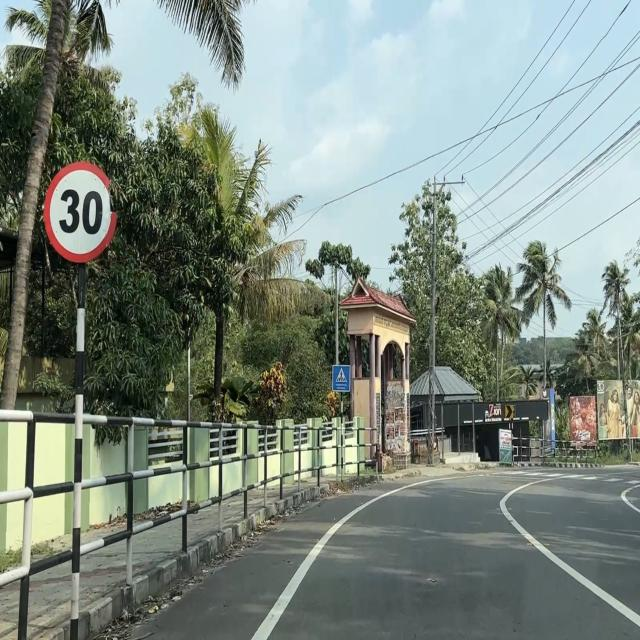PEDESTRIAN_CROSSING: (332, 365, 350, 392)
SPEED_LIMIT_30: (43, 159, 118, 265)
TURN_RIGHT: (505, 404, 513, 418)
